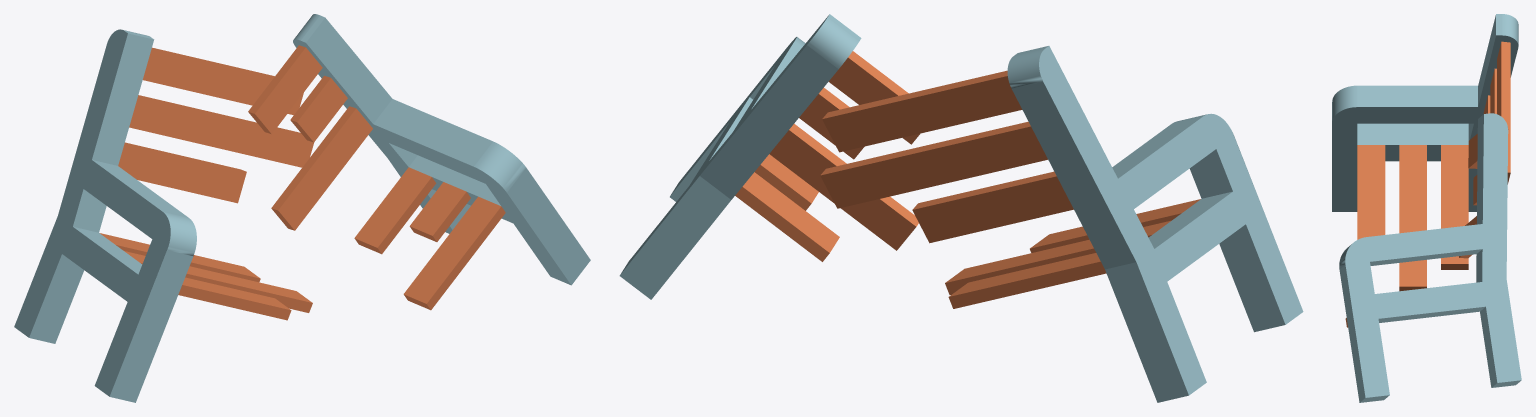
File: benchDamaged.dae
The picture shows the model from 3 angles, left to right: view 1: azimuth 30°, elevation 25°; view 2: azimuth 150°, elevation 25°; view 3: azimuth 270°, elevation 25°; orthographic projection. The views are drawn at different scales.
Visible parts, largest first — view 1: benchBroken_x0020__x0025_8angles; view 2: benchBroken_x0020__x0025_8angles; view 3: benchBroken_x0020__x0025_8angles.
Boxes of the visible parts, x1=… form: benchBroken_x0020__x0025_8angles: x1=14, y1=14, x2=590, y2=402; benchBroken_x0020__x0025_8angles: x1=619, y1=14, x2=1303, y2=402; benchBroken_x0020__x0025_8angles: x1=1332, y1=14, x2=1521, y2=402.
Bounding box in the file's own units: 0.9902 × 0.5319 × 0.3829.
